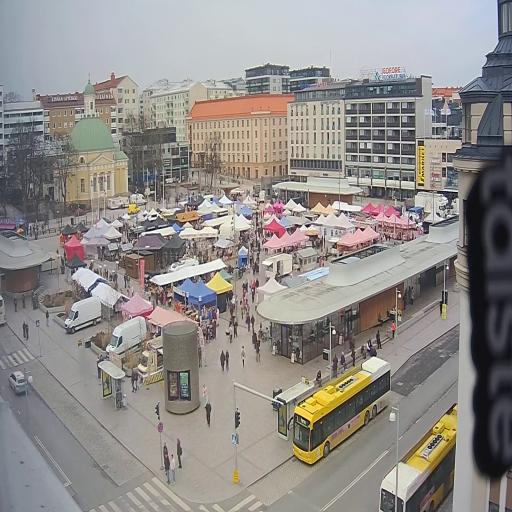bus: (286, 347, 394, 475), (373, 399, 462, 511), (0, 293, 9, 330)
car: (6, 365, 28, 402)
delivery: (102, 309, 148, 368), (64, 292, 104, 337), (413, 188, 447, 220), (131, 191, 148, 207), (128, 202, 140, 216)
